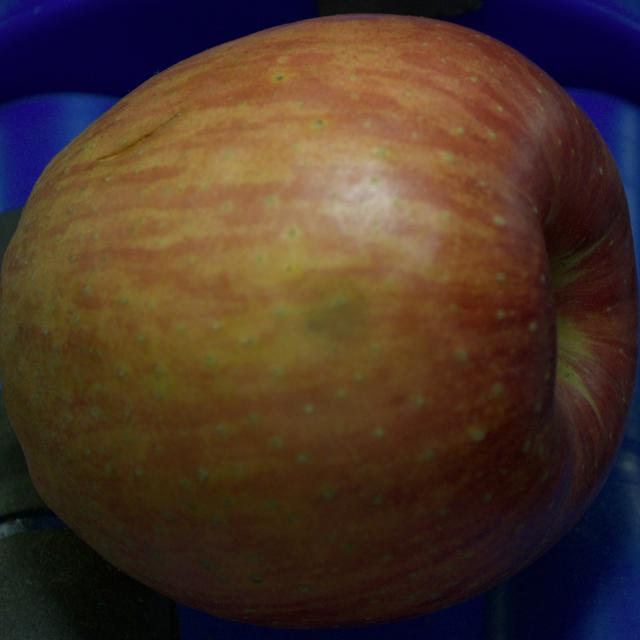apple: (0, 16, 637, 626)
scratch: (96, 114, 179, 162)
